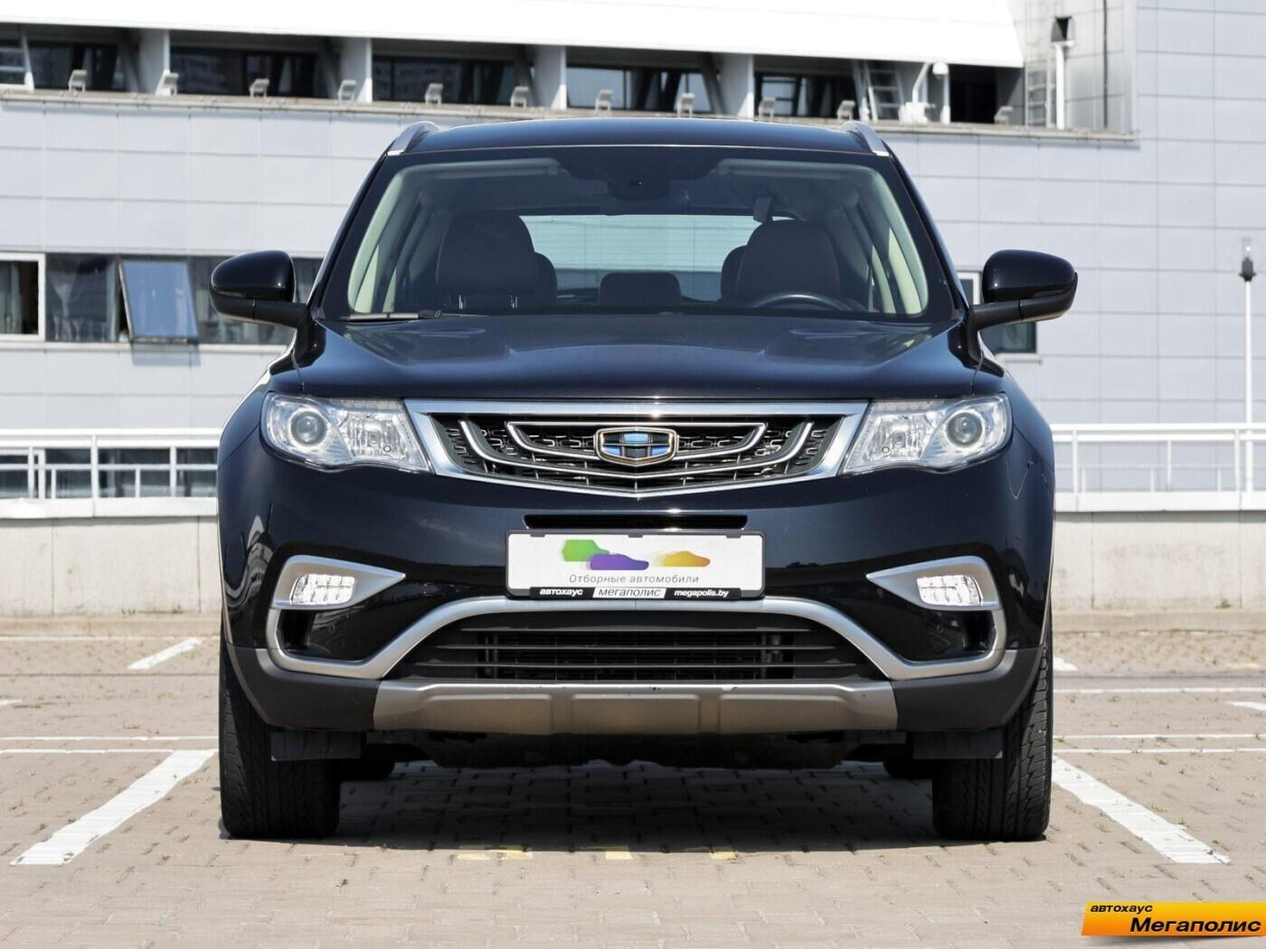Atlas_2016-2023: (204, 111, 1089, 842)
